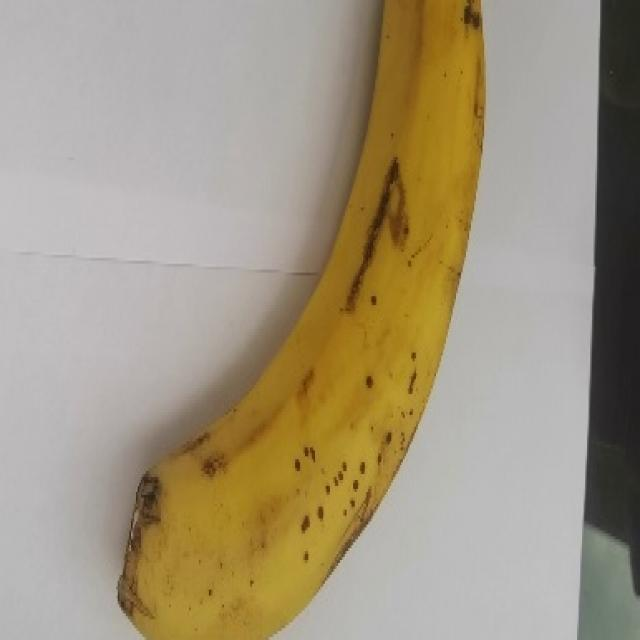Banana: (118, 0, 488, 640)
